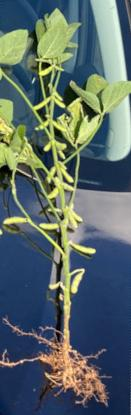soja: (30, 95, 54, 112), (68, 240, 95, 255), (66, 209, 82, 232), (70, 271, 83, 294), (49, 121, 70, 135), (69, 207, 86, 224), (51, 95, 68, 112), (34, 223, 64, 232), (38, 64, 58, 77), (61, 166, 75, 184), (44, 166, 57, 185), (48, 204, 64, 218), (60, 183, 77, 196), (2, 216, 29, 224), (33, 119, 51, 131), (50, 88, 65, 102), (46, 188, 60, 202), (55, 141, 70, 150), (45, 140, 54, 154), (58, 161, 69, 171), (59, 151, 67, 161)
